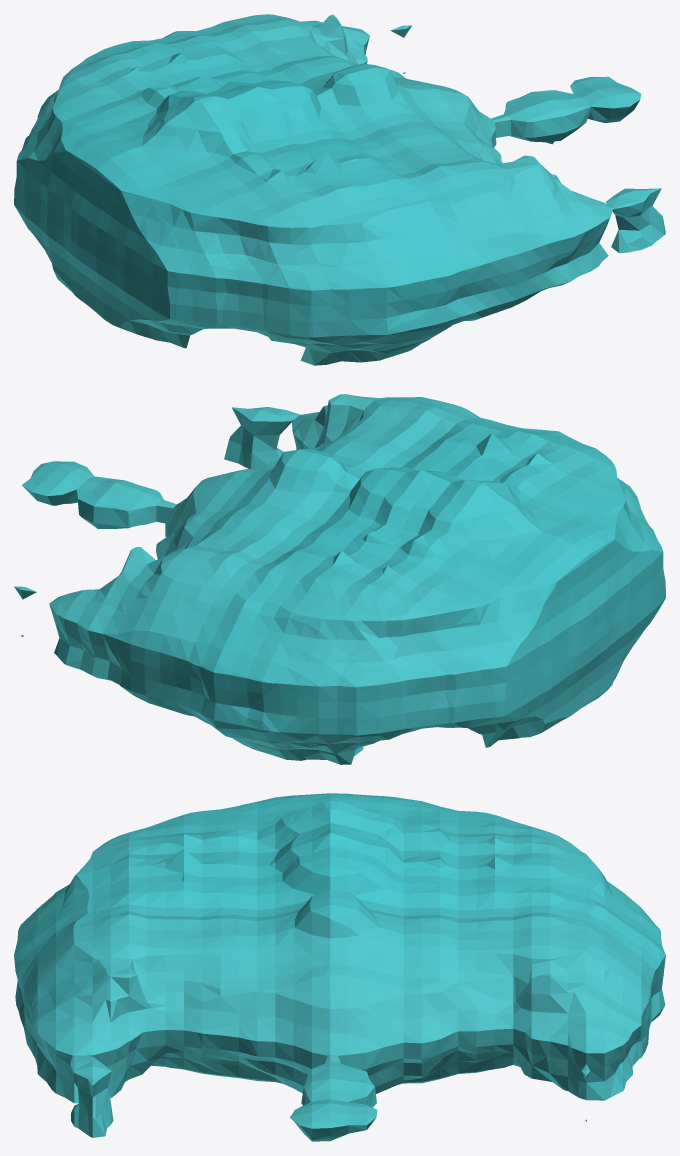
The picture shows the model from 3 angles, top to bottom: view 1: azimuth 30°, elevation 25°; view 2: azimuth 150°, elevation 25°; view 3: azimuth 270°, elevation 25°; orthographic projection. The views are drawn at different scales.
Parts seen in each view (by area): view 1: geometry_0; view 2: geometry_0; view 3: geometry_0.
Boxes of the visible parts, x1=… form: geometry_0: x1=14, y1=14, x2=665, y2=365; geometry_0: x1=14, y1=394, x2=665, y2=764; geometry_0: x1=14, y1=793, x2=665, y2=1141.
Bounding box in the file's own units: 1.58 × 0.5521 × 1.52.
